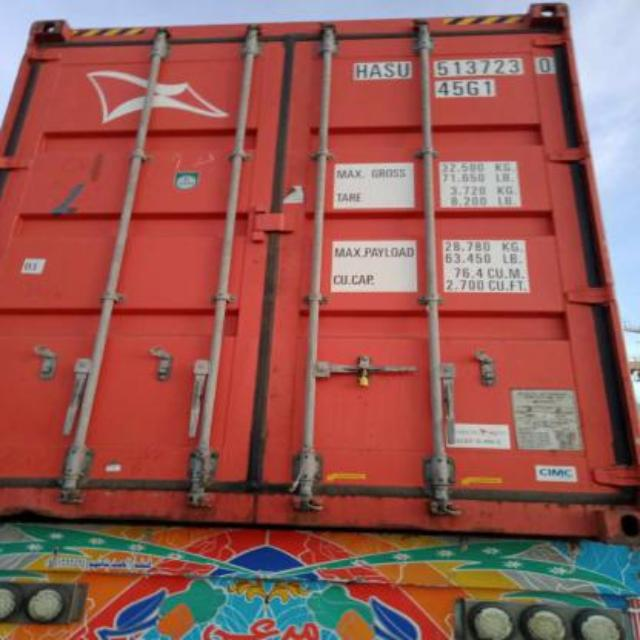0: (538, 60, 552, 76)
1: (450, 58, 464, 78)
2: (494, 56, 510, 80)
3: (508, 52, 522, 76), (466, 59, 478, 75)
5: (434, 60, 446, 74)
7: (479, 57, 486, 81)
A: (368, 56, 380, 80)
H: (352, 59, 366, 82)
S: (384, 59, 396, 79)
U: (394, 60, 414, 80)
